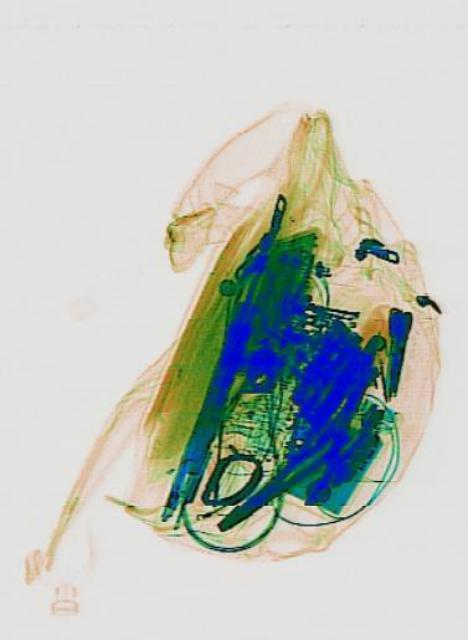Pliers: (209, 418, 347, 540)
